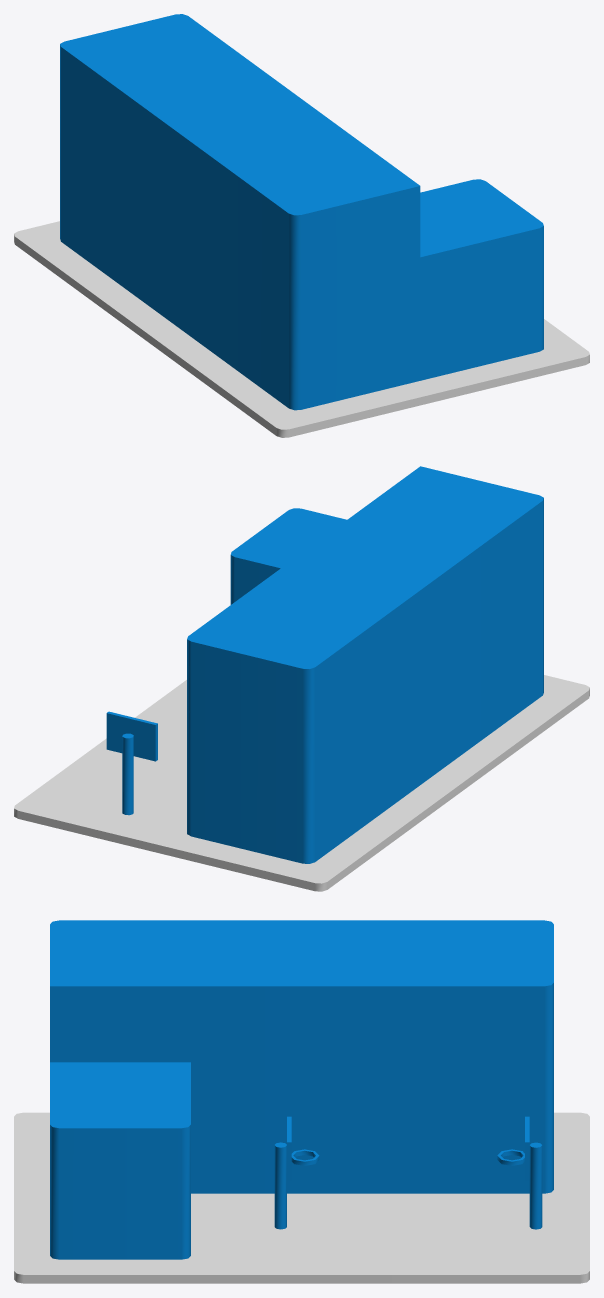
Rendered from School_2x3.glb.
3 renders of one model, top to bottom at view 1: azimuth 30°, elevation 25°; view 2: azimuth 150°, elevation 25°; view 3: azimuth 270°, elevation 25°, orthographic. The views are drawn at different scales.
Visible parts, largest first — view 1: School_2x3; view 2: School_2x3; view 3: School_2x3.
Boxes of the visible parts, x1,y1,x2,y2 form: School_2x3: (14, 14, 589, 437); School_2x3: (14, 466, 589, 891); School_2x3: (14, 920, 589, 1283).
Size of the model in its own units: 2 by 1.24 by 3.
